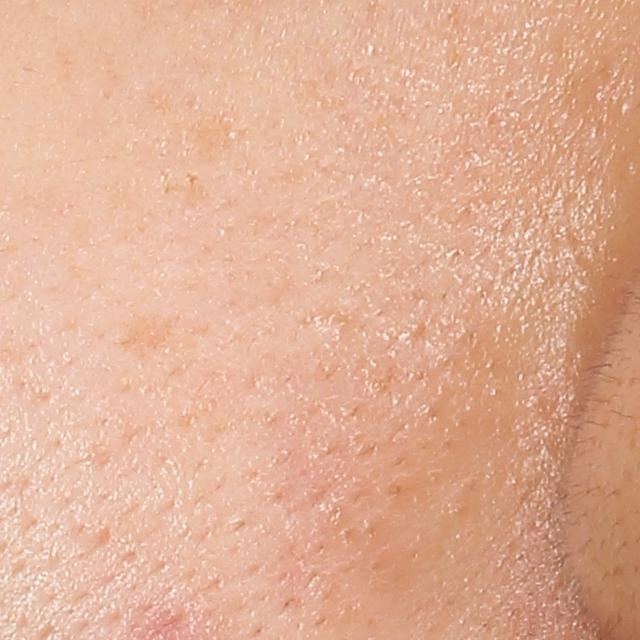melasma: (95, 307, 183, 360)
